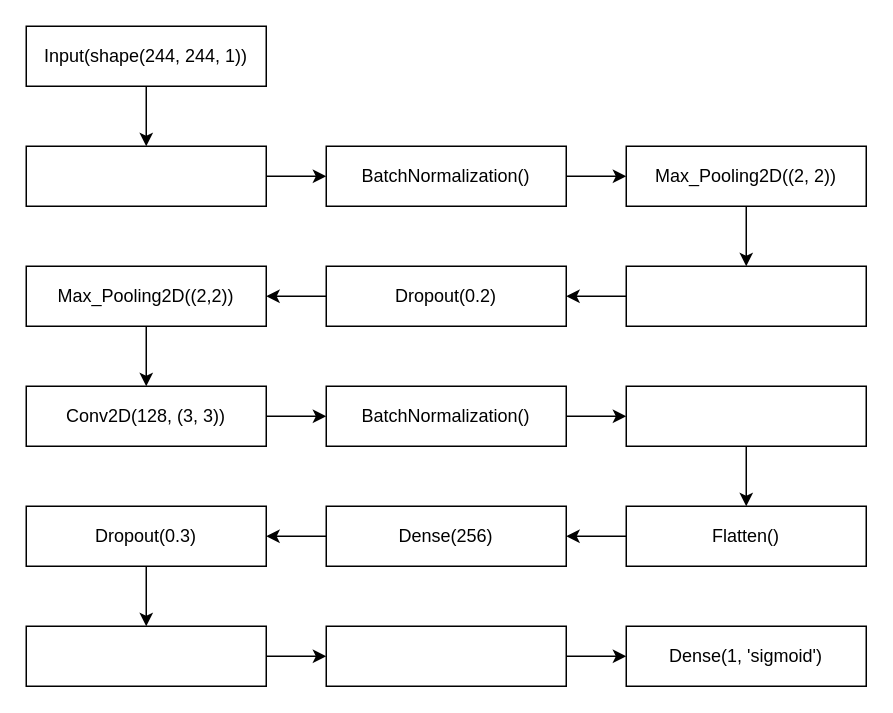
This 893x713 diagram has some shape labels left out. Here are the shapes that lost their labels. From the top down, the centre of each, then its label:
point (145, 175): Conv2D(32, (3, 3))
point (745, 295): Conv2D(64, (3, 3))
point (745, 415): Max_Pooling2D((3, 3))
point (145, 655): Dense(128)
point (445, 655): Dropout(0.5)
